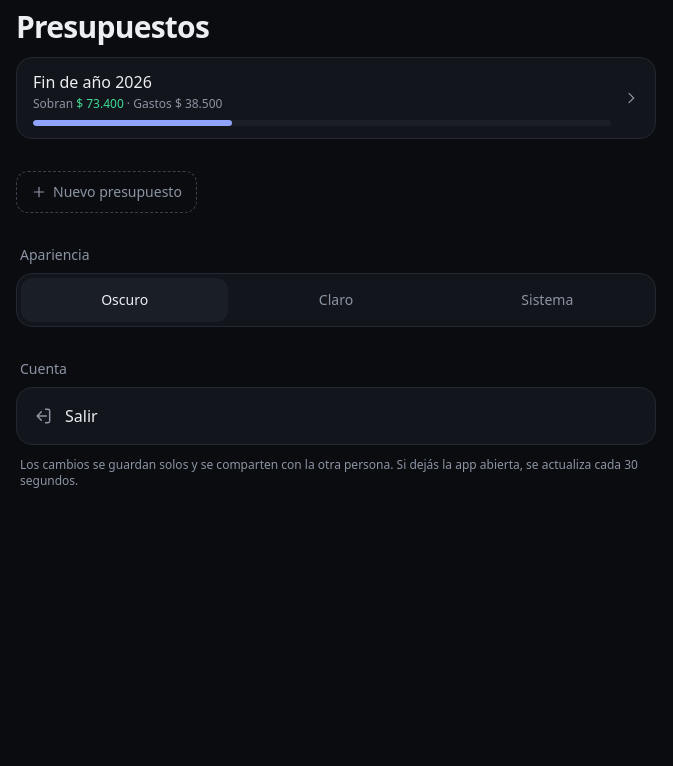
Test: crear un presupuesto › por defecto propone copiar el último, con una explicación
Click the button "Nuevo presupuesto": point(106, 192) [16,171,197,213]
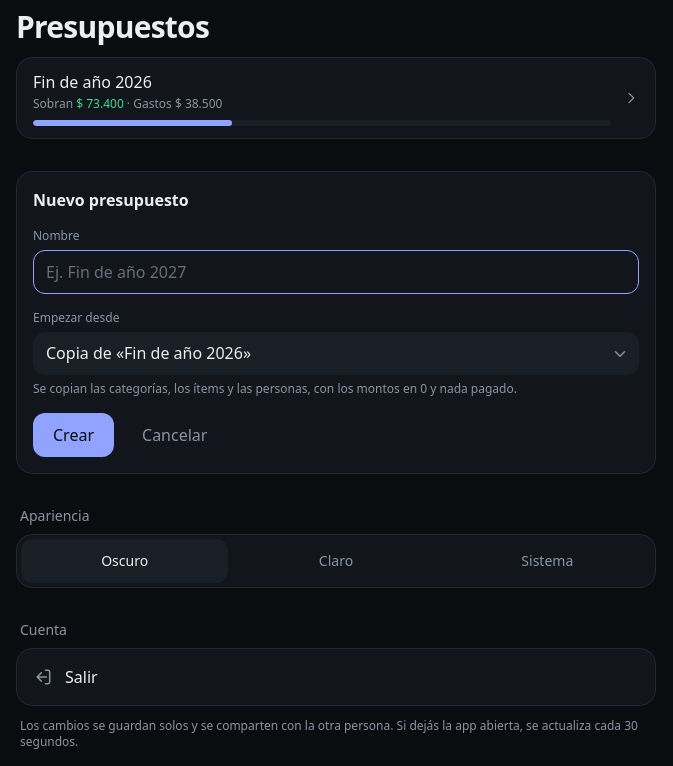
Expected: the dropdown labelled "Empezar desde" shows "Copia de «Fin de año 2026»", [33,332,639,375]
Expected: the text "montos en 0 y nada pagado" is shown, [33,380,517,397]
